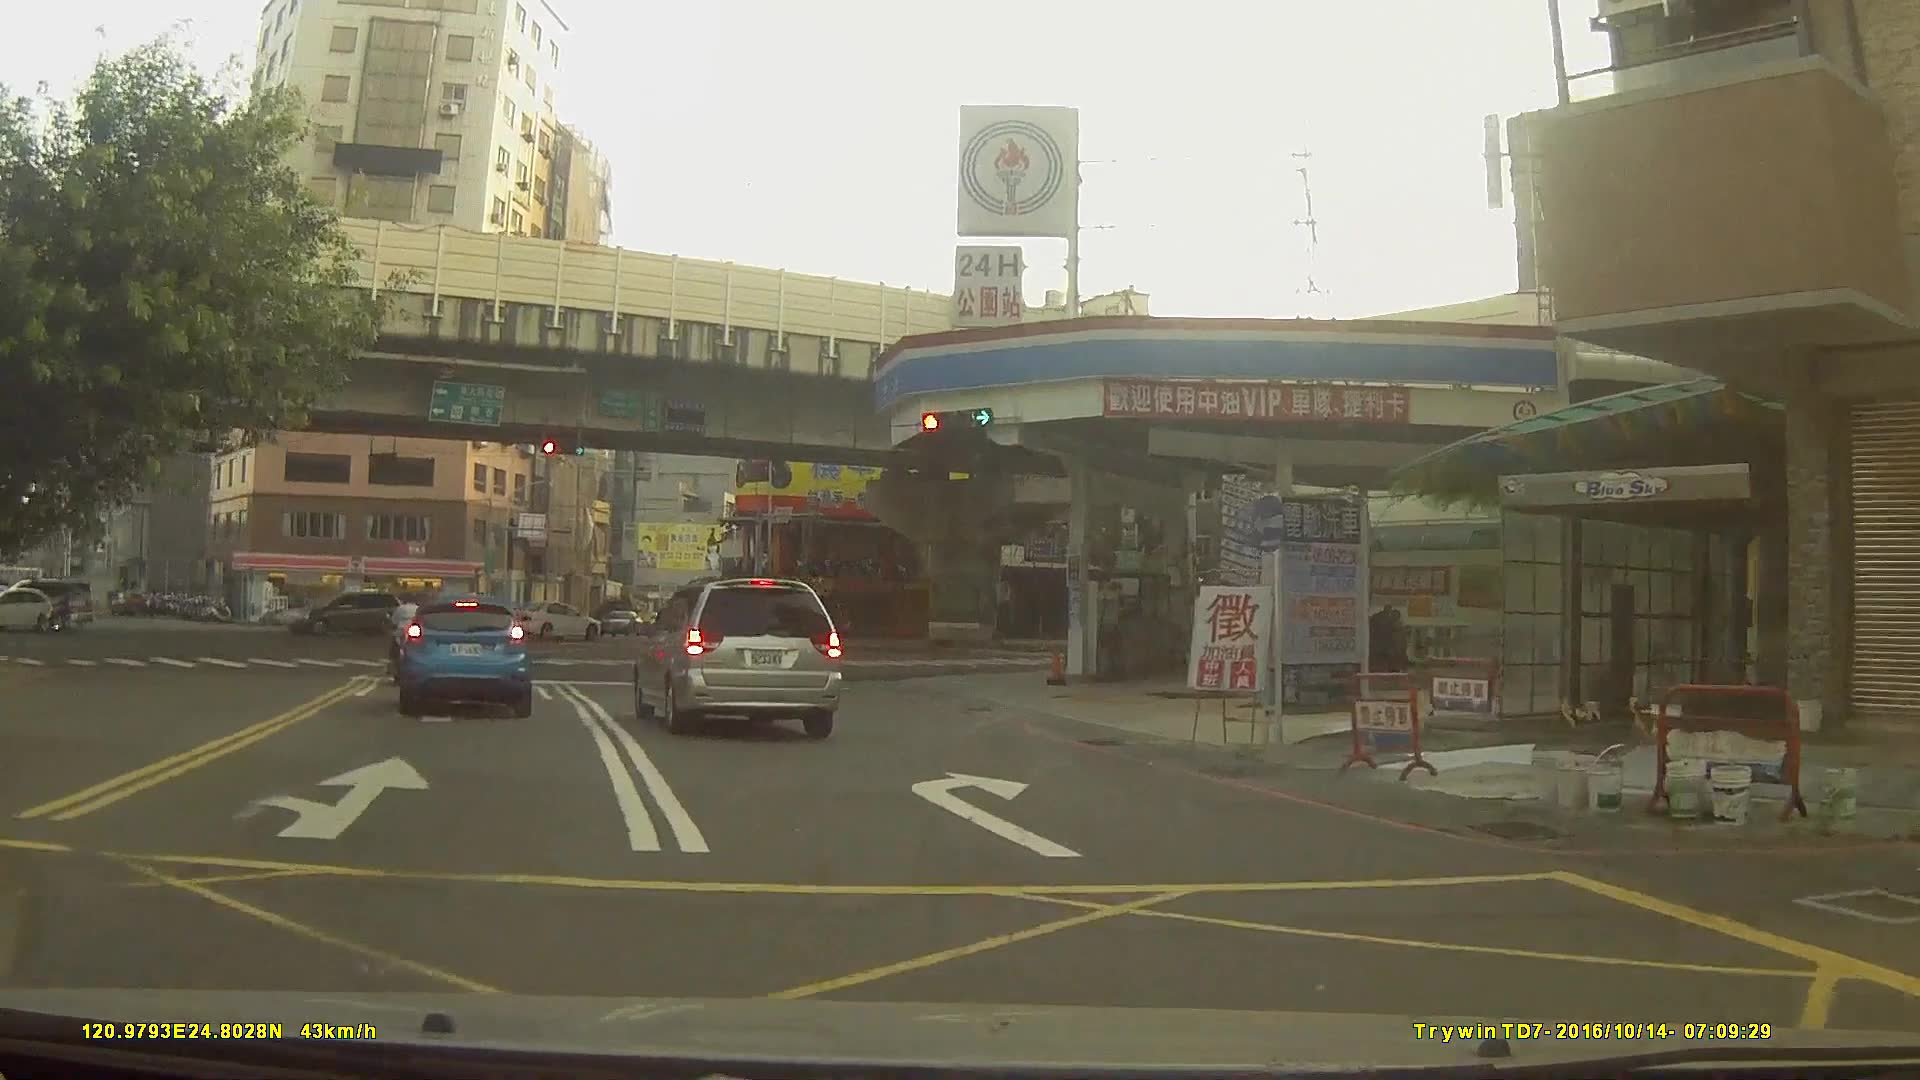rider: (387, 595, 426, 678), (38, 596, 76, 635)
vehicle: (635, 576, 843, 739), (395, 594, 532, 720), (283, 591, 404, 639), (504, 600, 601, 641), (0, 587, 68, 634)
